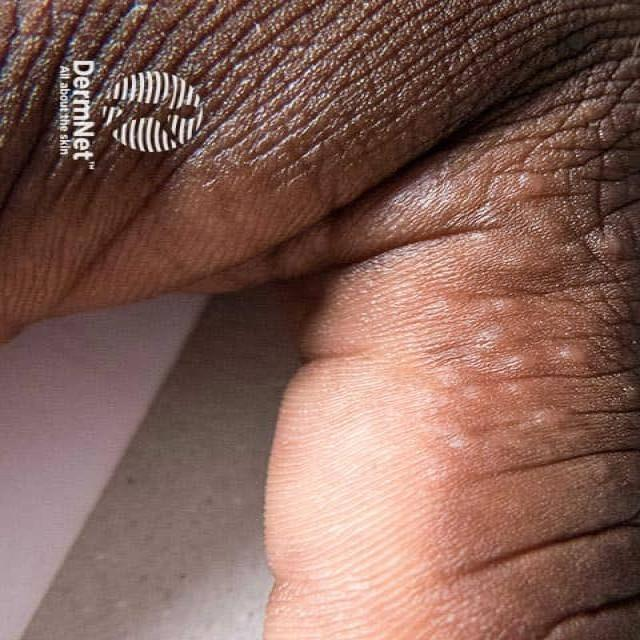Eczema: (444, 156, 626, 568)
